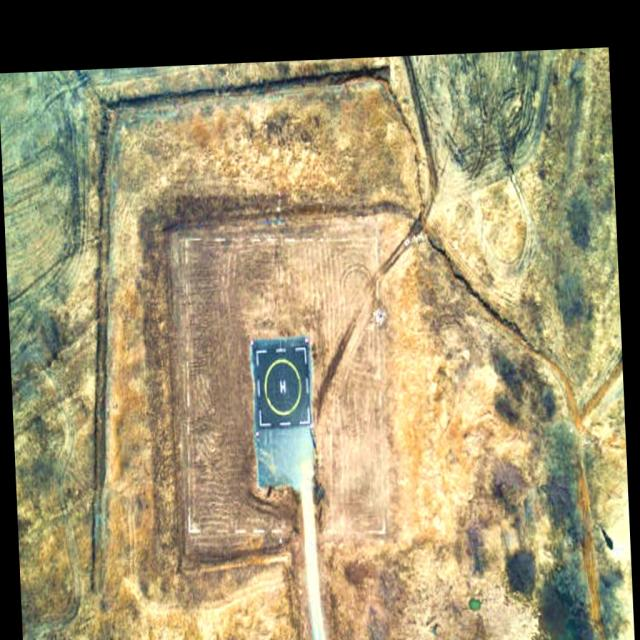helipad: (261, 356, 304, 416)
